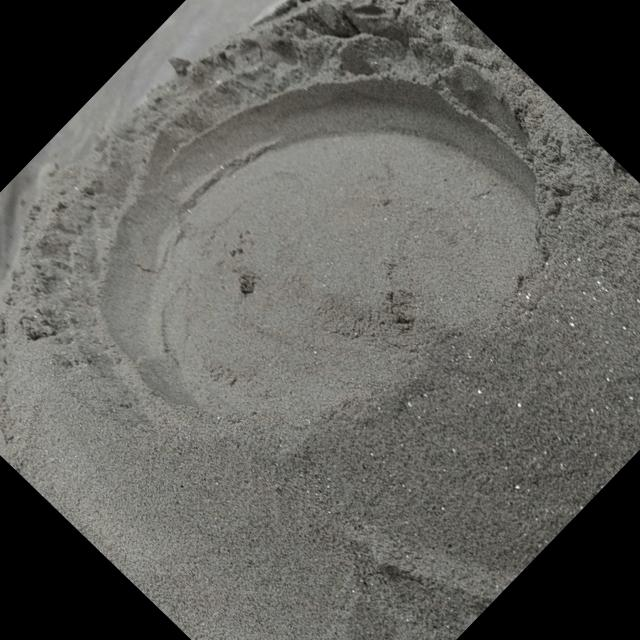C40: (78, 72, 534, 421)
